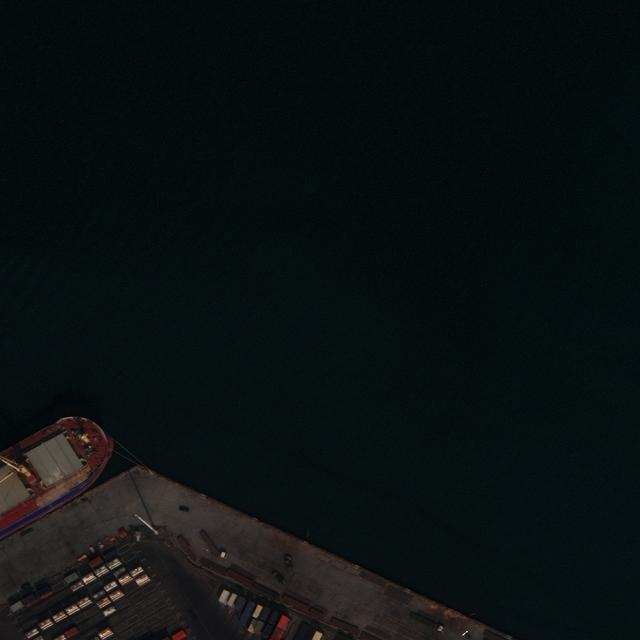Cargo: (1, 414, 114, 524)
